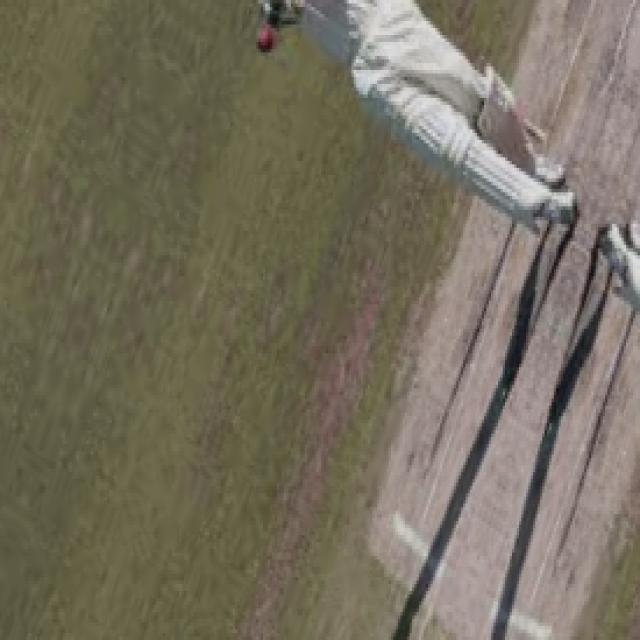toe: (249, 0, 298, 54)
